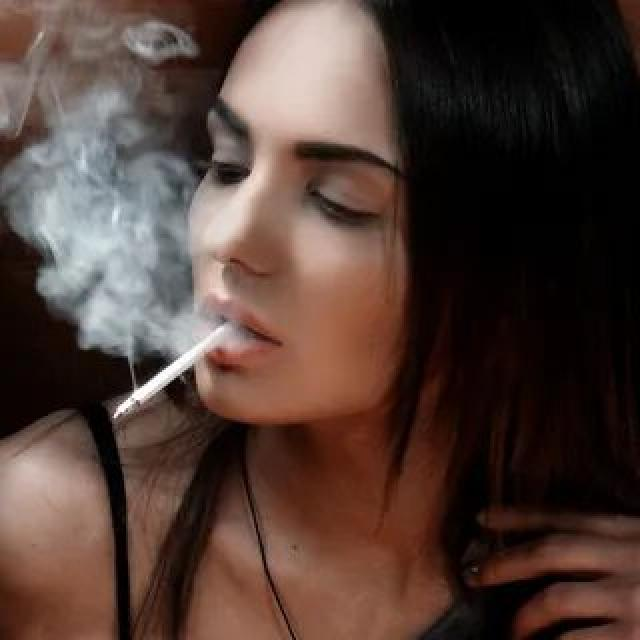cigarette: (112, 316, 244, 424)
